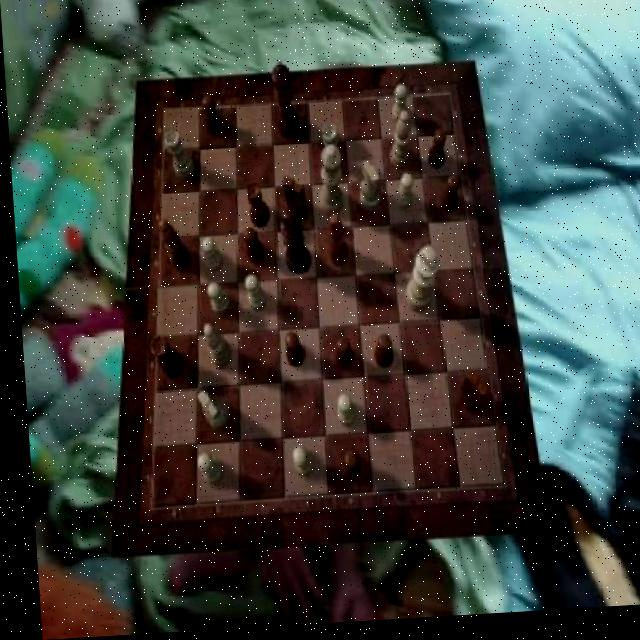bishop: (155, 219, 188, 275), (323, 218, 346, 272)
black-bishop: (276, 211, 309, 278)
black-king: (453, 374, 484, 418), (281, 179, 306, 226)
black-knight: (435, 181, 460, 219), (201, 97, 223, 138), (240, 230, 262, 269), (425, 135, 447, 174), (328, 340, 349, 375), (368, 338, 389, 373), (280, 335, 299, 372), (334, 454, 355, 486)
black-pawn: (270, 65, 298, 142)
black-queen: (147, 337, 180, 381), (244, 184, 267, 231)
black-rook: (385, 115, 411, 174), (199, 326, 227, 372)
white-bishop: (399, 251, 438, 318)
white-king: (192, 392, 225, 434), (356, 164, 379, 216)
white-knight: (192, 456, 218, 489), (203, 284, 227, 319), (241, 278, 263, 315), (199, 238, 221, 275), (390, 178, 412, 215), (389, 89, 408, 131), (331, 397, 352, 432), (286, 448, 308, 480)
white-pawn: (315, 148, 343, 223)
white-queen: (163, 133, 193, 182), (318, 128, 340, 178)
